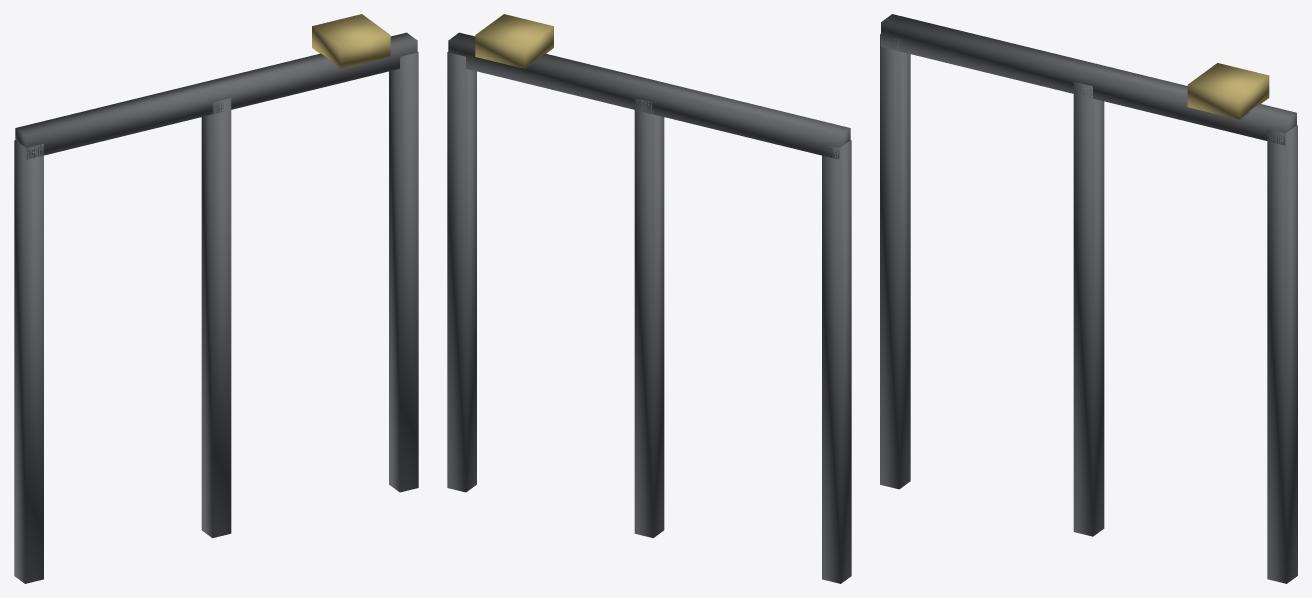
File: steel_ladder_break_l90.glb
The picture shows the model from 3 angles, left to right: view 1: azimuth 30°, elevation 25°; view 2: azimuth 150°, elevation 25°; view 3: azimuth 330°, elevation 25°; orthographic projection. The views are drawn at different scales.
Visible parts, largest first — view 1: world; view 2: world; view 3: world.
Boxes of the visible parts, x1,y1,x2,y2 form: world: [14, 14, 418, 583]; world: [447, 14, 851, 583]; world: [880, 14, 1297, 583].
Size of the model in its own units: 0.945 by 1.08 by 0.12.
